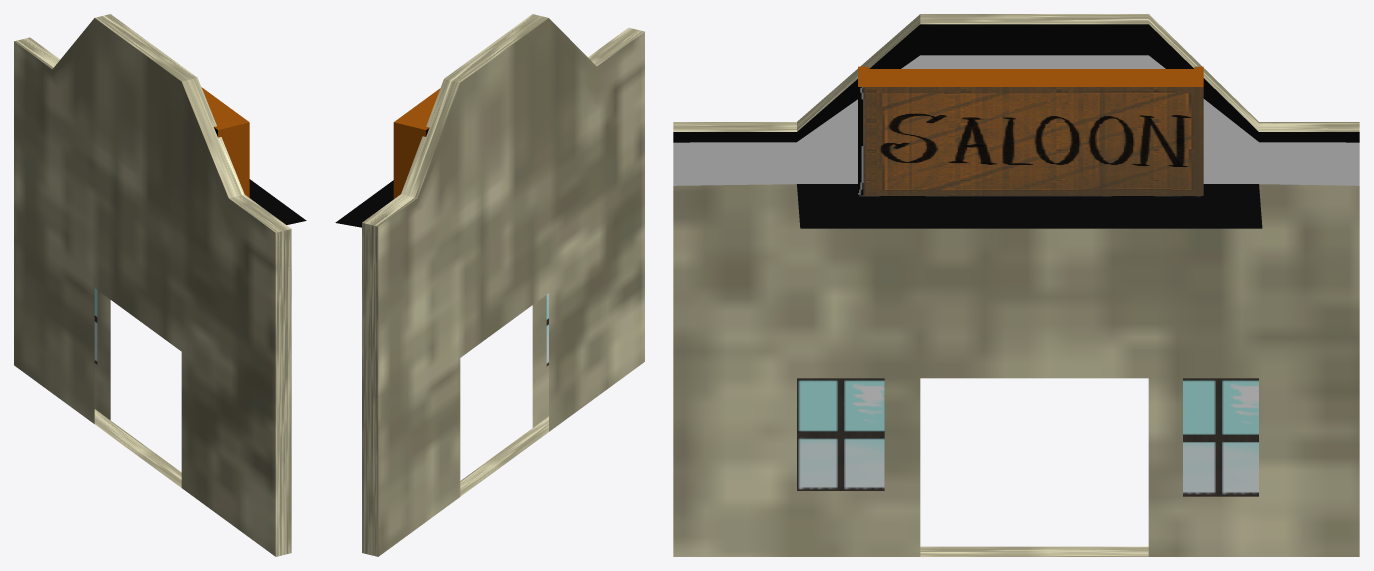
File: SaloonFront.fbx
The picture shows the model from 3 angles, left to right: view 1: azimuth 30°, elevation 25°; view 2: azimuth 150°, elevation 25°; view 3: azimuth 270°, elevation 25°; orthographic projection. The views are drawn at different scales.
Visible parts, largest first — view 1: SaloonFacade, SaloonSign; view 2: SaloonFacade, SaloonSign; view 3: SaloonFacade, SaloonSign.
Boxes of the visible parts, left/top/right/bottom form: SaloonFacade: left=14, top=14, right=306, bottom=556; SaloonSign: left=201, top=87, right=249, bottom=197; SaloonFacade: left=335, top=14, right=644, bottom=556; SaloonSign: left=393, top=88, right=440, bottom=198; SaloonFacade: left=673, top=14, right=1359, bottom=556; SaloonSign: left=858, top=66, right=1203, bottom=196.
Size of the model in its own units: 141 by 691 by 806.
